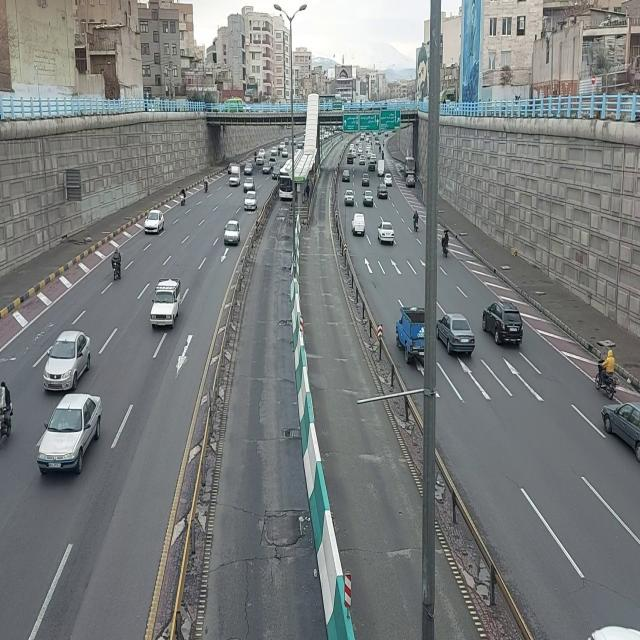Car: (36, 393, 105, 479), (40, 328, 92, 392), (481, 294, 525, 351), (435, 307, 477, 359), (143, 208, 166, 236), (376, 218, 396, 246), (223, 219, 241, 248), (242, 190, 260, 212), (344, 187, 356, 207), (377, 182, 389, 200), (362, 190, 374, 208)
Motorcycle: (595, 347, 620, 403), (111, 245, 123, 281), (440, 228, 452, 258), (413, 208, 421, 232), (180, 185, 188, 207), (202, 173, 210, 193)
Pickup: (394, 304, 426, 368), (149, 276, 181, 332), (350, 212, 366, 239), (228, 164, 242, 188)
